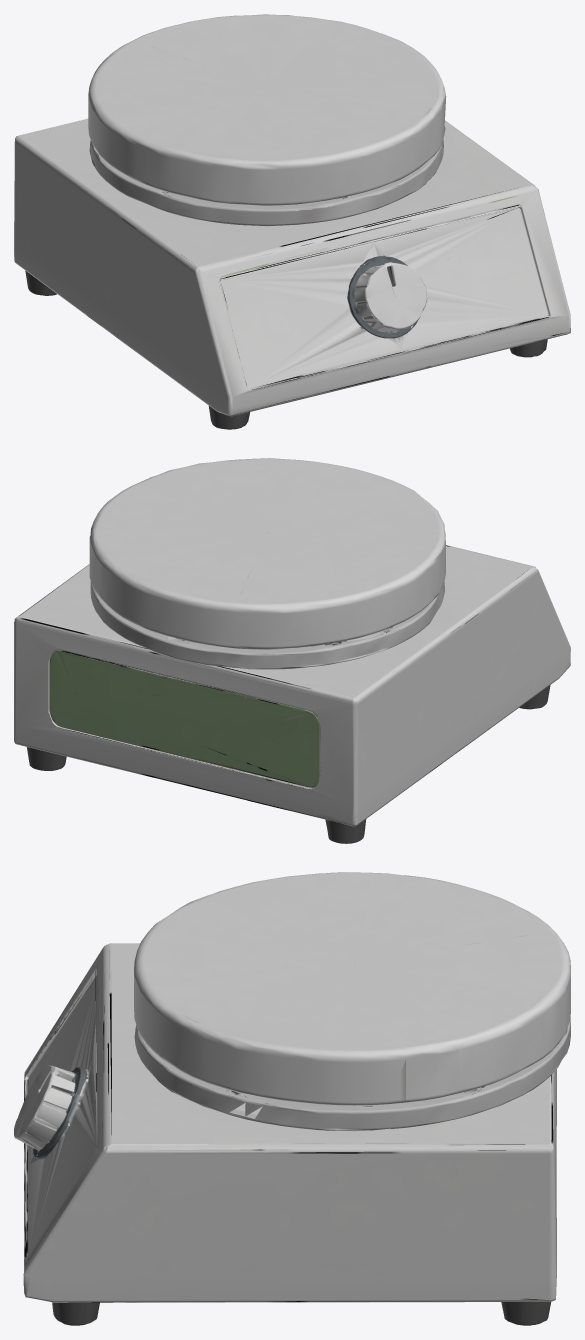
The model's file is MagneticStirrerHotPlate.glb.
3 views of the same model, one above another, from view 1: azimuth 30°, elevation 25°; view 2: azimuth 150°, elevation 25°; view 3: azimuth 270°, elevation 25° (orthographic). The views are drawn at different scales.
Visible parts, largest first — view 1: geometry_0; view 2: geometry_0; view 3: geometry_0.
Boxes of the visible parts, x1,y1,x2,y2 form: geometry_0: [14, 14, 570, 429]; geometry_0: [14, 458, 570, 843]; geometry_0: [14, 872, 570, 1325].
Size of the model in its own units: 0.8267 by 0.5 by 0.9468.
1 material, 1 textured.
